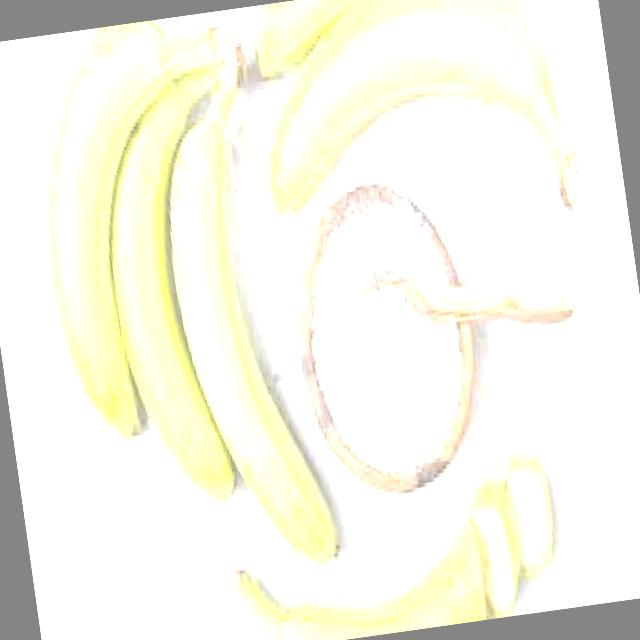Banana: (18, 6, 346, 600), (244, 0, 587, 253), (228, 516, 490, 640)
